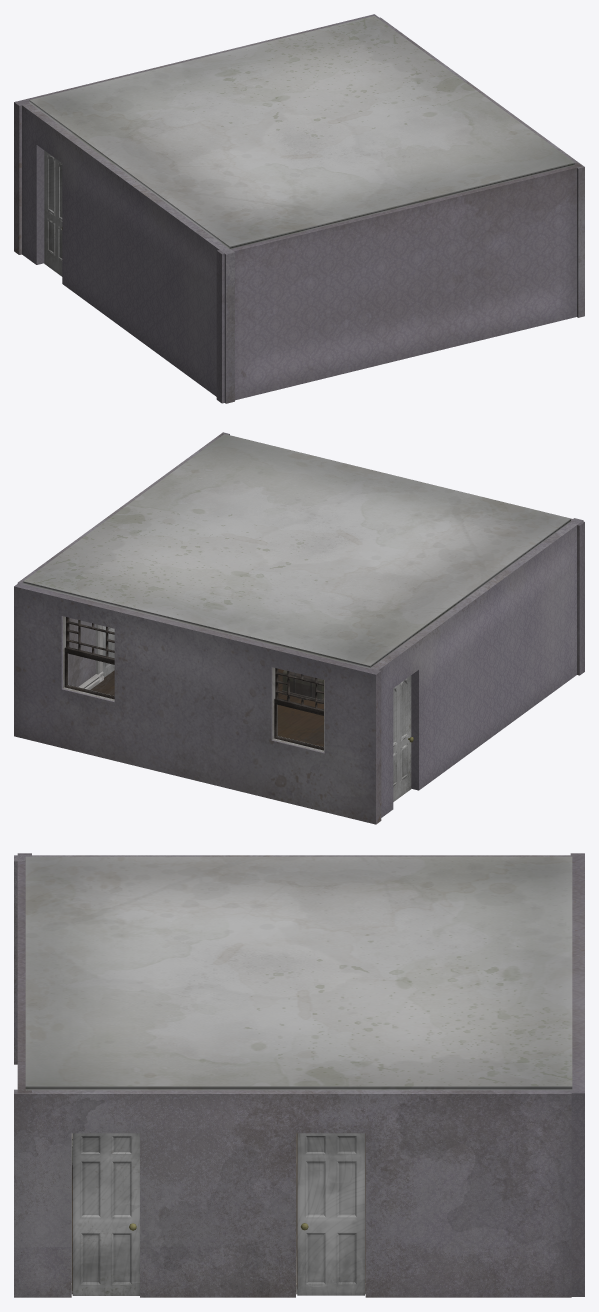
Rendered from bedroom_spencer_02.fbx.
The picture shows the model from 3 angles, top to bottom: view 1: azimuth 30°, elevation 25°; view 2: azimuth 150°, elevation 25°; view 3: azimuth 270°, elevation 25°; orthographic projection. The views are drawn at different scales.
Parts seen in each view (by area): view 1: ceiling, wall03, wall01, polySurface92, wall02, wall04; view 2: ceiling, wall02, wall01, glass_lower (×2), window_01 (×2), floor, polySurface92, wall04, glass_upper (×2), wall03, chest, frame01 (+1 smaller); view 3: ceiling, wall04, pasted__door (×2), wall02, wall03, wall01, floor.
Boxes of the visible parts, left/top/right/bottom form: ceiling: left=29, top=16, right=574, bottom=249; wall03: left=216, top=162, right=581, bottom=403; wall01: left=22, top=103, right=234, bottom=403; polySurface92: left=44, top=150, right=62, bottom=276; wall02: left=14, top=14, right=379, bottom=254; wall04: left=378, top=17, right=584, bottom=317; ceiling: left=23, top=434, right=570, bottom=668; wall02: left=14, top=582, right=381, bottom=824; wall01: left=370, top=518, right=583, bottom=817; glass_lower (×2): left=68, top=654, right=323, bottom=746; window_01 (×2): left=64, top=617, right=323, bottom=750; floor: left=90, top=669, right=323, bottom=746; polySurface92: left=393, top=675, right=411, bottom=801; wall04: left=17, top=432, right=229, bottom=686; glass_upper (×2): left=69, top=618, right=323, bottom=708; wall03: left=218, top=434, right=584, bottom=675; chest: left=282, top=670, right=323, bottom=703; frame01: left=272, top=667, right=324, bottom=752; ceiling: left=25, top=856, right=572, bottom=1090; wall04: left=14, top=1089, right=571, bottom=1297; pasted__door (×2): left=72, top=1133, right=364, bottom=1295; wall02: left=570, top=853, right=584, bottom=1296; wall03: left=17, top=853, right=31, bottom=1093; wall01: left=14, top=855, right=571, bottom=1064; floor: left=72, top=1133, right=365, bottom=1294.
Size of the model in its own units: 253 by 102 by 252.
